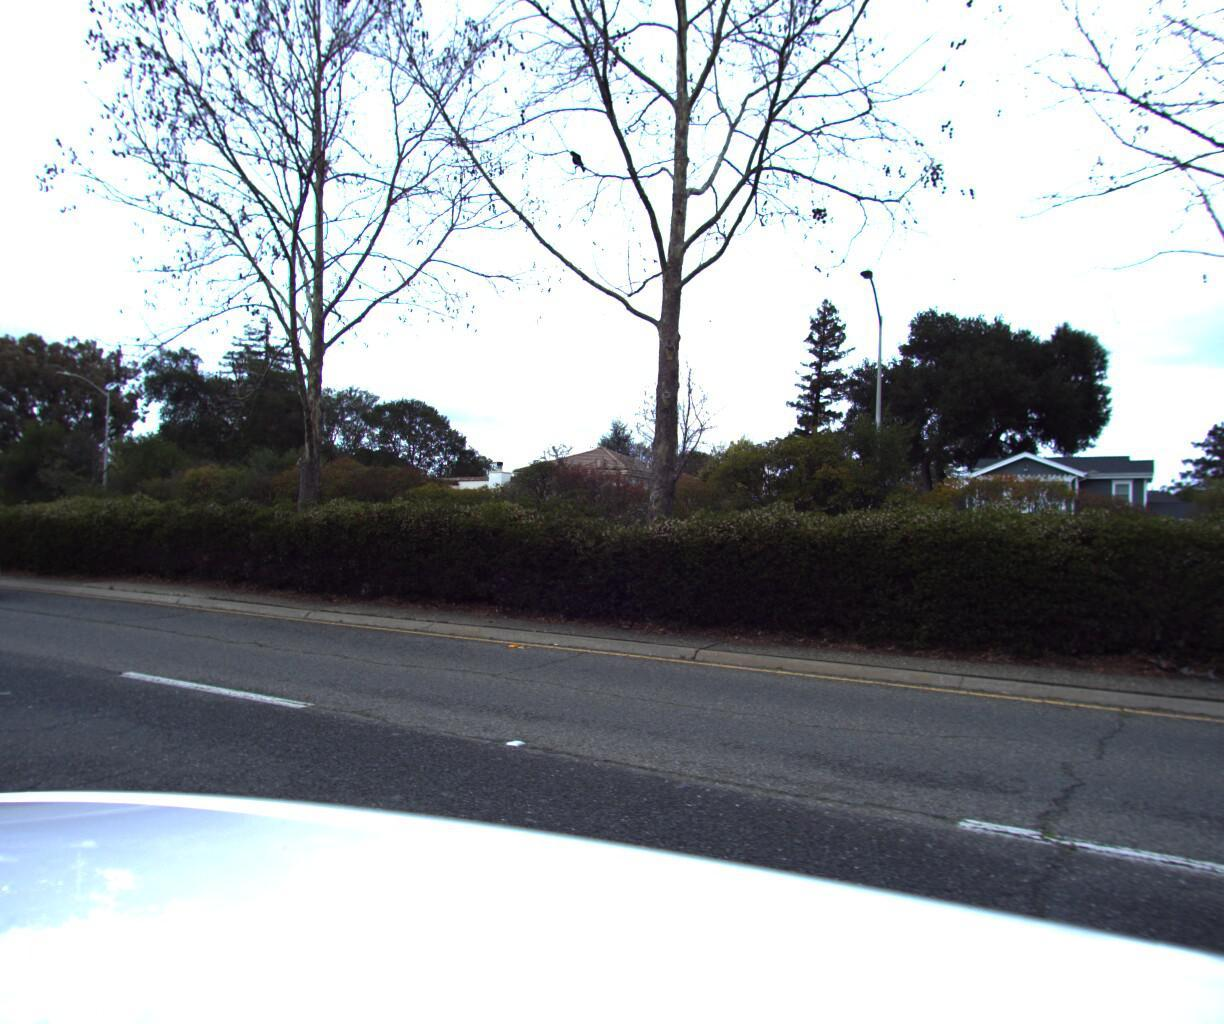car: (0, 500, 12, 610)
